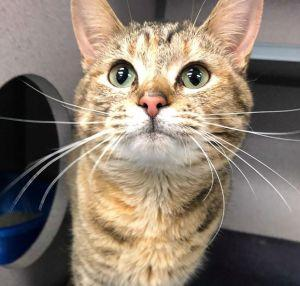bengal: (49, 1, 263, 186)
